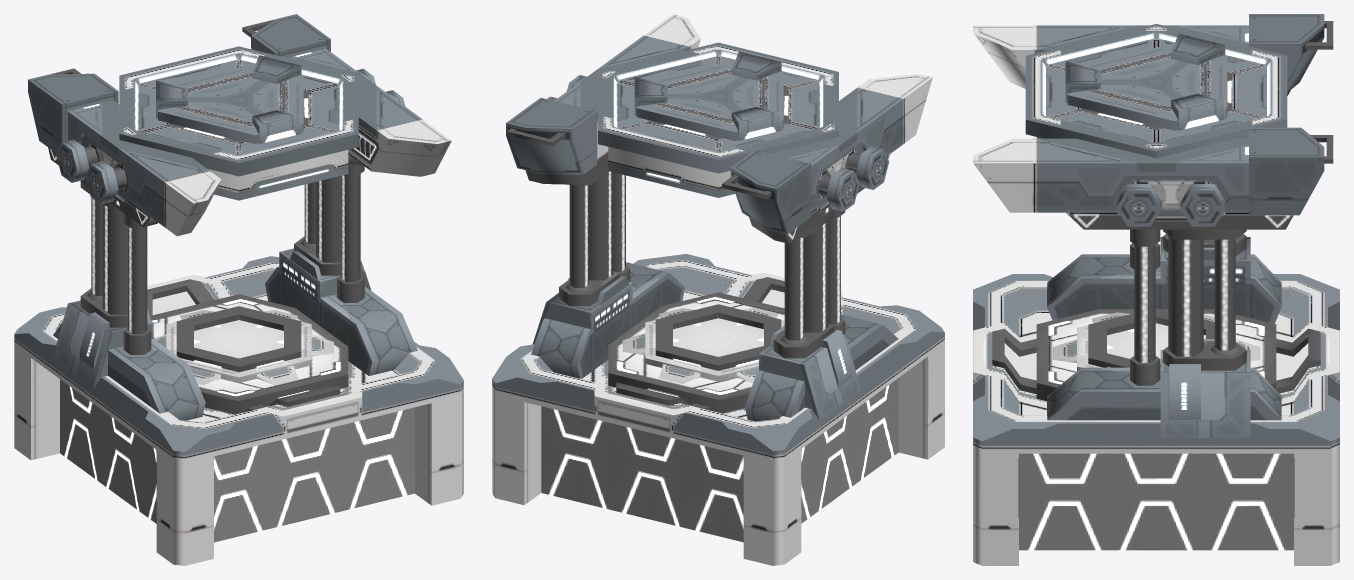
3 renders of one model, left to right at view 1: azimuth 30°, elevation 25°; view 2: azimuth 150°, elevation 25°; view 3: azimuth 270°, elevation 25°, orthographic. The views are drawn at different scales.
Visible parts, largest first — view 1: assembler-mk-4; view 2: assembler-mk-4; view 3: assembler-mk-4.
Boxes of the visible parts, bbox=[...] form: assembler-mk-4: bbox=[14, 14, 463, 565]; assembler-mk-4: bbox=[492, 14, 944, 565]; assembler-mk-4: bbox=[973, 14, 1339, 565].
Size of the model in its own units: 4.16 by 5.01 by 4.
1 material, 1 textured.
